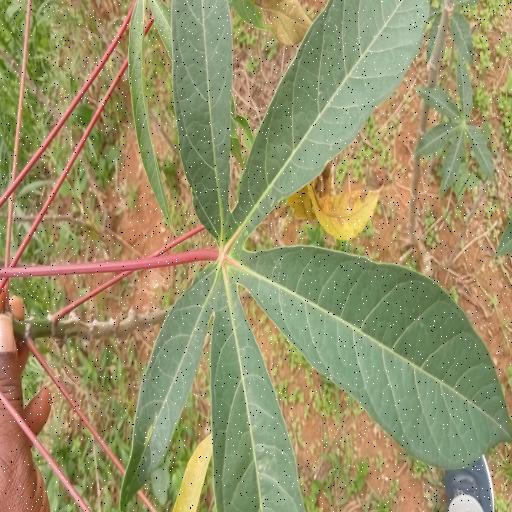Cassava_Healthy: (129, 0, 512, 509)
